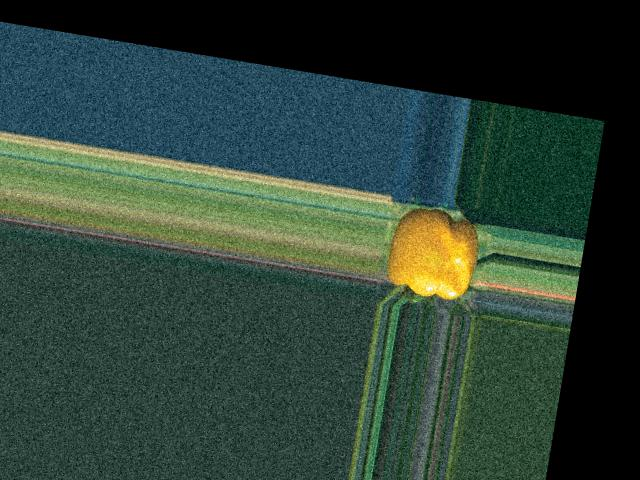bell_pepper: (376, 201, 491, 312)
